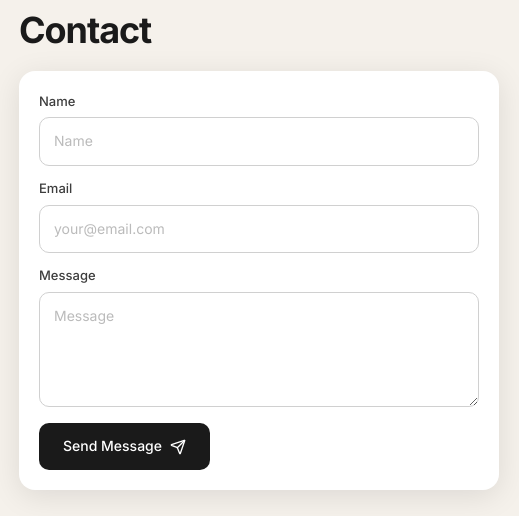
Test: ContactPage › submission › shows success message on valid submission
In the field labelled "Name": (259, 142) [39,117,479,166], type "John Doe"
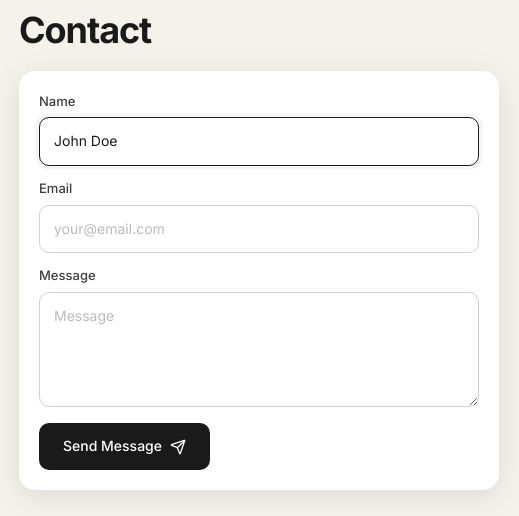
In the field labelled "Email": (259, 229) [39,205,479,253], type "john@example.com"
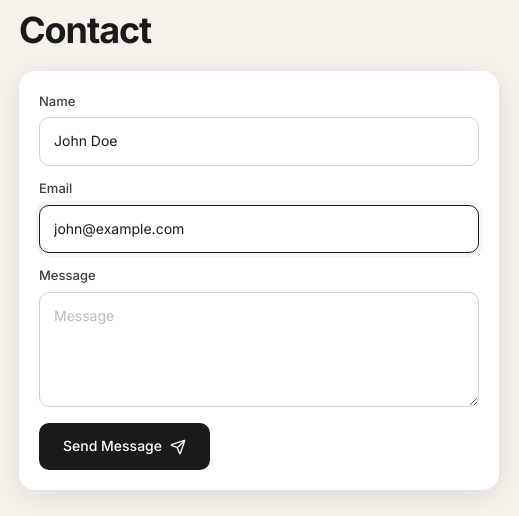
In the text box labelled "Message": (259, 350) [39,292,479,407], type "This is a valid message for testing."
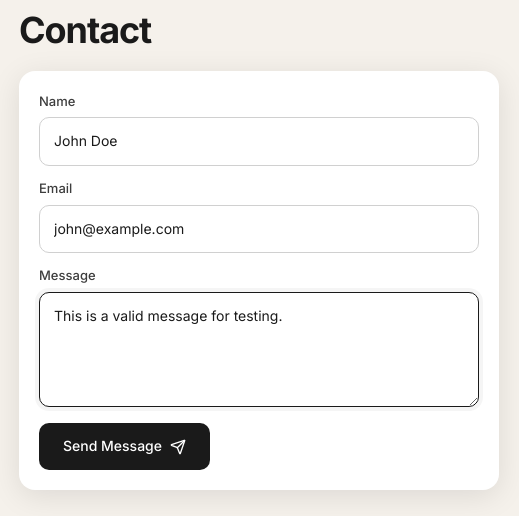
Click the button "Send Message": (124, 446) [39,423,210,470]
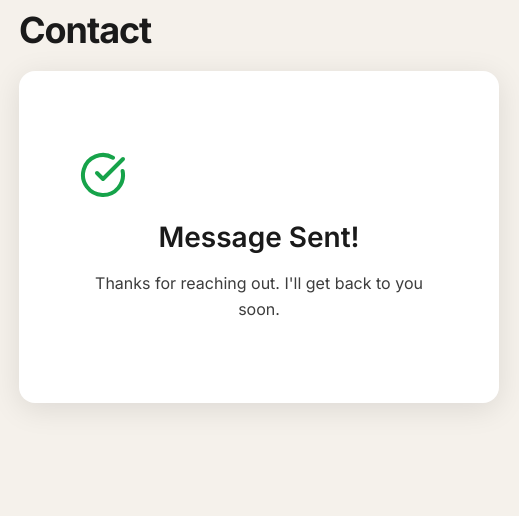
Check: the heading "Message Sent!" is shown, box [158,220,360,254]
